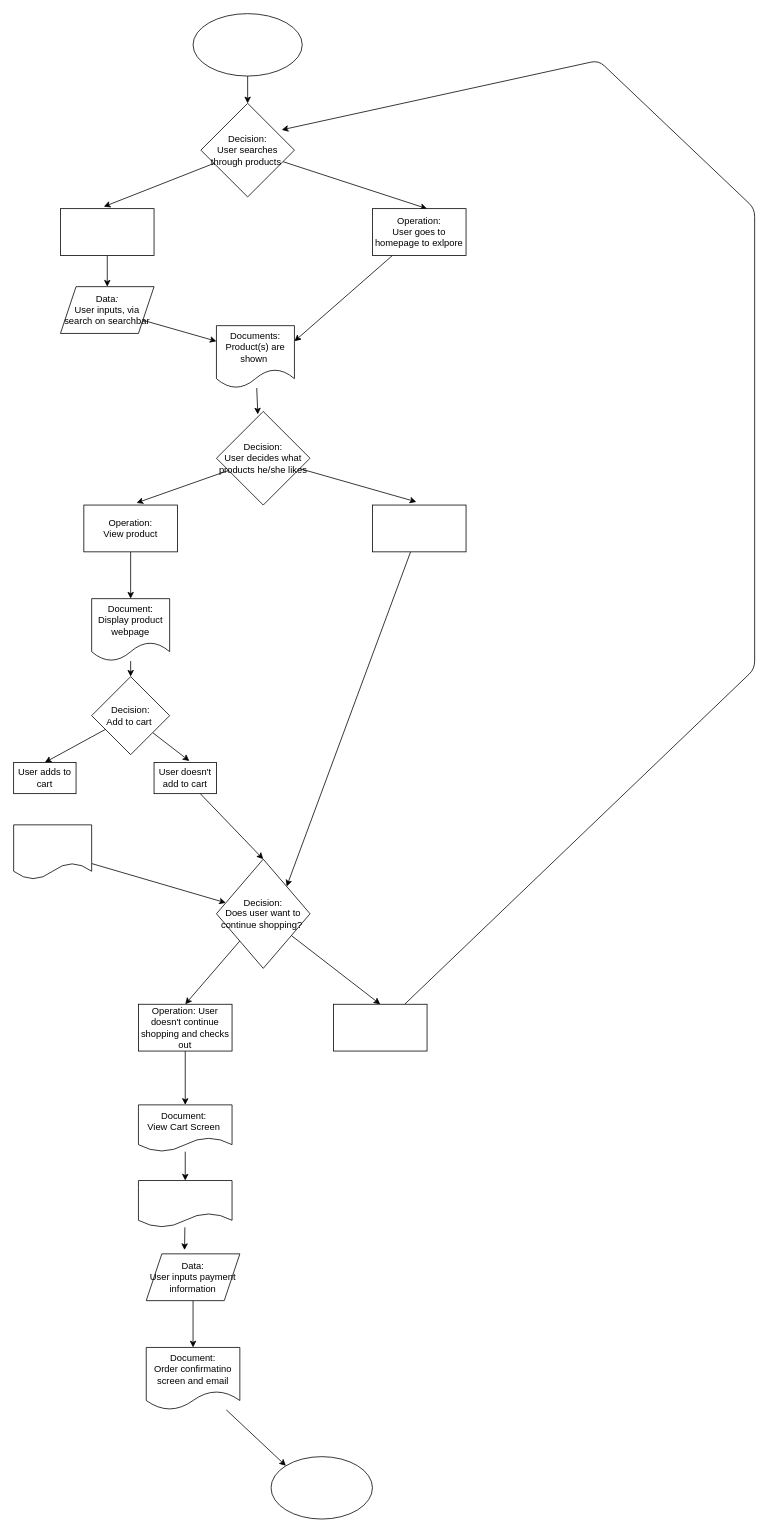
The diagram is 775 pixels wide and 1533 high, and some of its shapes have lost their labels. Here are the shapes that lost their labels. From the top down, the box of each, then its label:
(192, 13, 302, 76): Starts: Users enter webpage
(60, 208, 154, 255): Operation: User uses search-bar
(372, 504, 466, 552): Operation: Don't view
(13, 824, 92, 879): Document: Add to cart confirmation
(333, 1003, 427, 1051): Operation: User continues shopping
(138, 1180, 232, 1227): Document: View payment Screen
(270, 1456, 372, 1519): End: User leaves website
